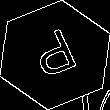P_SE: (26, 25, 84, 85)
